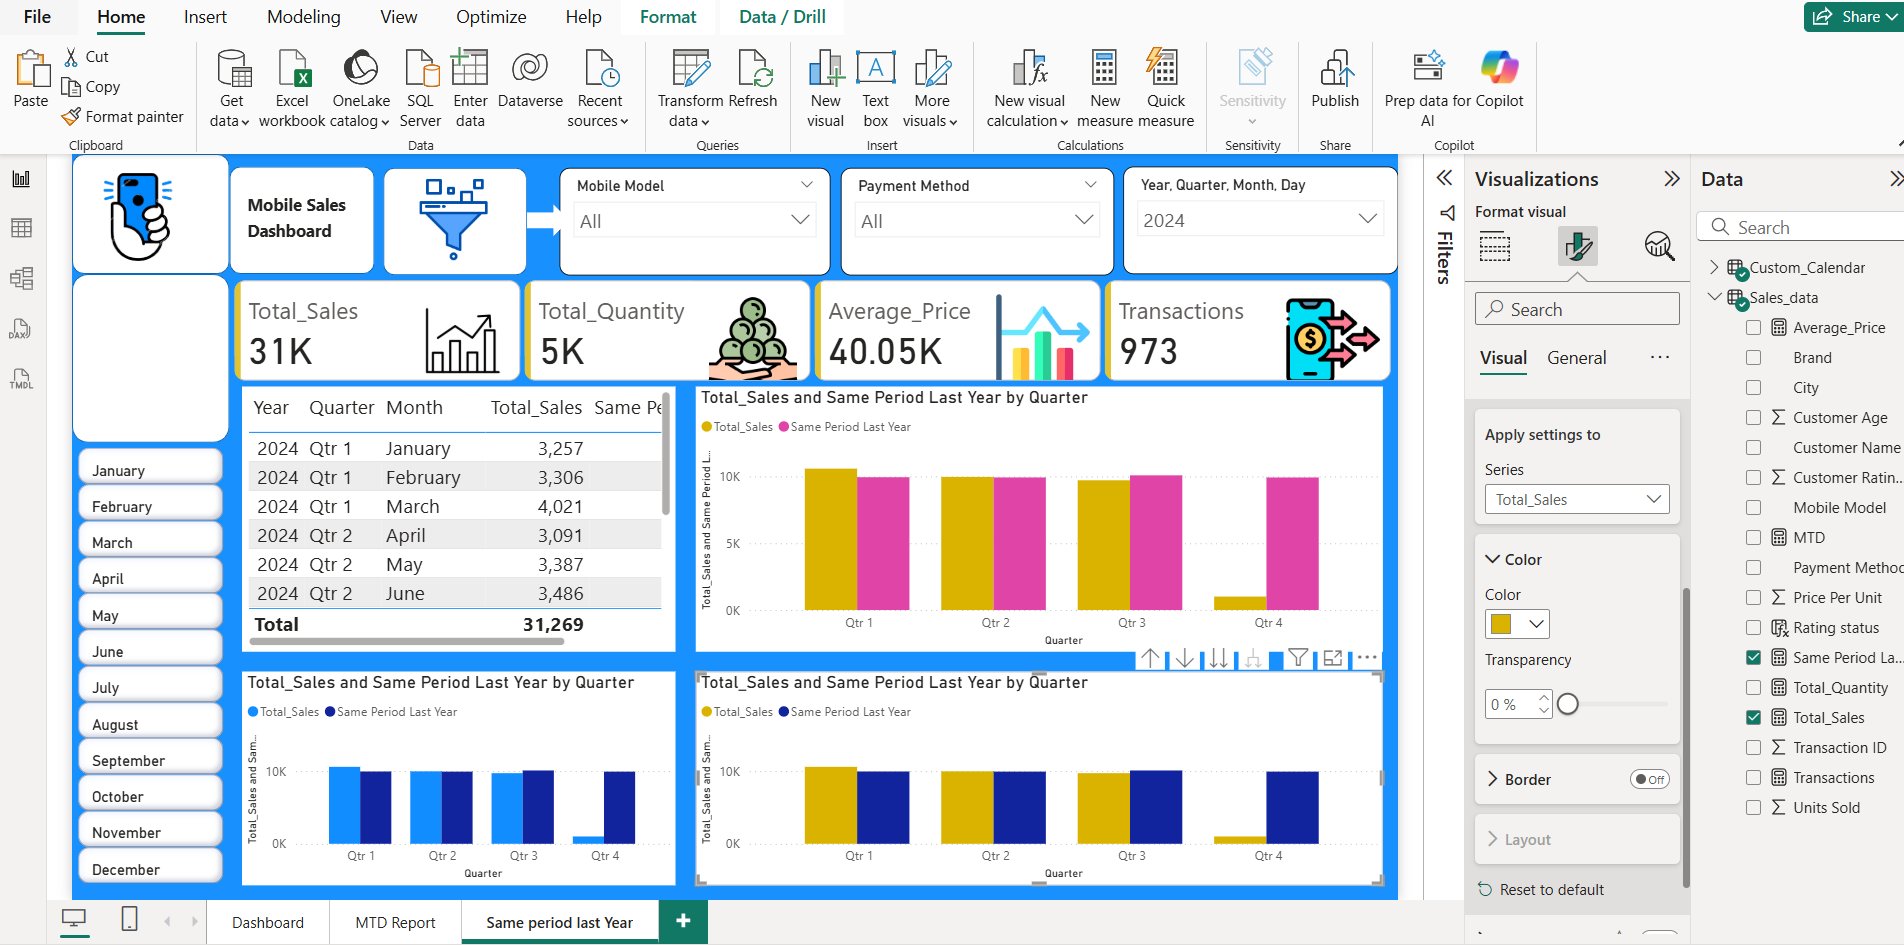

What the dashboard file says about the page in this screenshot:
{"tool":"powerbi","page":{"name":"Same period last Year","canvas":[1280,720],"ordinal":2},"visuals":[{"type":"shape","box":[0,0,152,115.8],"z":0},{"type":"image","box":[0,0,127.9,127.9],"z":1000},{"type":"shape","box":[0,115.8,152,162.9],"z":2000},{"type":"cardVisual","fields":{"Data":["Sales_data.Total_Sales","Sales_data.Total_Quantity","Sales_data.Average_Price","Sales_data.Transactions"]},"box":[152.5,117.5,1127.5,107.5],"z":3000},{"type":"slicer","fields":{"Values":["Sales_data.Mobile Model"]},"box":[470.5,13.3,261.8,103.8],"z":4000},{"type":"slicer","fields":{"Values":["Sales_data.Payment Method"]},"box":[742,13.3,264.2,103.8],"z":5000},{"type":"slicer","fields":{"Values":["Custom_Calendar.Date.Variation.Date Hierarchy.Year","Custom_Calendar.Date.Variation.Date Hierarchy.Quarter","Custom_Calendar.Date.Variation.Date Hierarchy.Month","Custom_Calendar.Date.Variation.Date Hierarchy.Day"]},"box":[1014.6,12.1,265.4,103.8],"z":6000},{"type":"shape","box":[300.4,13.3,138.7,103.8],"z":7000},{"type":"image","box":[277.5,18.1,182.2,90.5],"z":8000},{"type":"shape","box":[439.1,48.3,41,31.4],"z":9000},{"type":"shape","box":[152,12.1,139.9,103.8],"z":10000},{"type":"textbox","box":[164.1,30.2,117,68.8],"z":11000},{"type":"advancedSlicerVisual","fields":{"Values":["Custom_Calendar.Date.Variation.Date Hierarchy.Month"]},"box":[1.2,278.4,150.8,441.6],"z":12000},{"type":"tableEx","fields":{"Values":["Custom_Calendar.Date.Variation.Date Hierarchy.Year","Custom_Calendar.Date.Variation.Date Hierarchy.Quarter","Custom_Calendar.Date.Variation.Date Hierarchy.Month","Sales_data.Total_Sales","Sales_data.Same Period Last Year"]},"box":[164.1,224.4,418.6,255.8],"z":13000},{"type":"clusteredColumnChart","fields":{"Category":["Custom_Calendar.Date.Variation.Date Hierarchy.Year","Custom_Calendar.Date.Variation.Date Hierarchy.Quarter","Custom_Calendar.Date.Variation.Date Hierarchy.Month"],"Y":["Sales_data.Total_Sales","Sales_data.Same Period Last Year"]},"box":[602,224.4,663.5,255.8],"z":14000},{"type":"clusteredColumnChart","fields":{"Category":["Custom_Calendar.Date.Variation.Date Hierarchy.Year","Custom_Calendar.Date.Variation.Date Hierarchy.Quarter","Custom_Calendar.Date.Variation.Date Hierarchy.Month"],"Y":["Sales_data.Total_Sales","Sales_data.Same Period Last Year"]},"box":[164.1,499.5,418.6,206.3],"z":15000},{"type":"clusteredColumnChart","fields":{"Category":["Custom_Calendar.Date.Variation.Date Hierarchy.Year","Custom_Calendar.Date.Variation.Date Hierarchy.Quarter","Custom_Calendar.Date.Variation.Date Hierarchy.Month"],"Y":["Sales_data.Total_Sales","Sales_data.Same Period Last Year"]},"box":[602,499.5,663.5,206.3],"z":16000},{"type":"pageNavigator","box":[6,142.4,136.3,119.4],"z":17000}]}

Visuals, with their boxes on the page's 1280x720 design canvas (x1, y1, x2, y2). These are canvas units, not pixel positions in the 1904x945 screenshot, which may show the page scaled, cropped or inside an application window:
shape: (x1=0, y1=0, x2=152, y2=116)
image: (x1=0, y1=0, x2=128, y2=128)
shape: (x1=0, y1=116, x2=152, y2=279)
cardVisual - Sales_data.Total_Sales x Sales_data.Total_Quantity: (x1=152, y1=118, x2=1280, y2=225)
slicer - Sales_data.Mobile Model: (x1=470, y1=13, x2=732, y2=117)
slicer - Sales_data.Payment Method: (x1=742, y1=13, x2=1006, y2=117)
slicer - Custom_Calendar.Date.Variation.Date Hierarchy.Year x Custom_Calendar.Date.Variation.Date Hierarchy.Quarter: (x1=1015, y1=12, x2=1280, y2=116)
shape: (x1=300, y1=13, x2=439, y2=117)
image: (x1=278, y1=18, x2=460, y2=109)
shape: (x1=439, y1=48, x2=480, y2=80)
shape: (x1=152, y1=12, x2=292, y2=116)
textbox: (x1=164, y1=30, x2=281, y2=99)
advancedSlicerVisual - Custom_Calendar.Date.Variation.Date Hierarchy.Month: (x1=1, y1=278, x2=152, y2=720)
tableEx - Custom_Calendar.Date.Variation.Date Hierarchy.Year x Custom_Calendar.Date.Variation.Date Hierarchy.Quarter: (x1=164, y1=224, x2=583, y2=480)
clusteredColumnChart - Custom_Calendar.Date.Variation.Date Hierarchy.Year x Custom_Calendar.Date.Variation.Date Hierarchy.Quarter: (x1=602, y1=224, x2=1266, y2=480)
clusteredColumnChart - Custom_Calendar.Date.Variation.Date Hierarchy.Year x Custom_Calendar.Date.Variation.Date Hierarchy.Quarter: (x1=164, y1=500, x2=583, y2=706)
clusteredColumnChart - Custom_Calendar.Date.Variation.Date Hierarchy.Year x Custom_Calendar.Date.Variation.Date Hierarchy.Quarter: (x1=602, y1=500, x2=1266, y2=706)
pageNavigator: (x1=6, y1=142, x2=142, y2=262)
